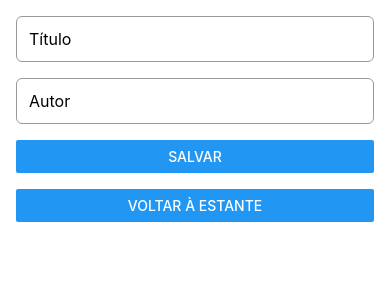
Test: CadastroScreen › limpa o erro do campo assim que o usuario digita
Click the button "Salvar" at [195, 156], box [16,140,374,173]
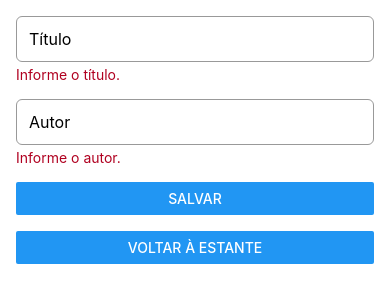
Expected: the text "Informe o título." is shown, [16,66,120,83]
Type "A" into the field named "Título do livro" at [195, 39], box [16,16,374,62]
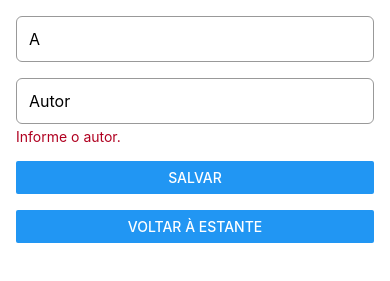
Expected: the text "Informe o título." is gone
